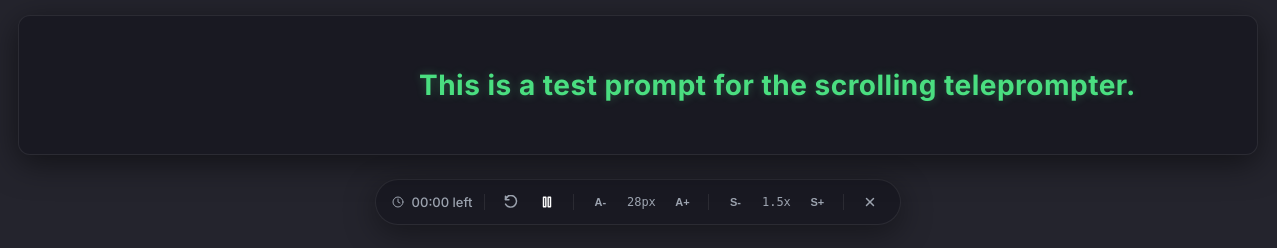
Test: Teleprompter.vue › increases and decreases font size on button click
expect the text "28px" is shown: met, box left=627, top=195, right=656, bottom=209
Click the button with class "btn-tool" showing "A+" at [682, 202], box left=668, top=188, right=696, bottom=216
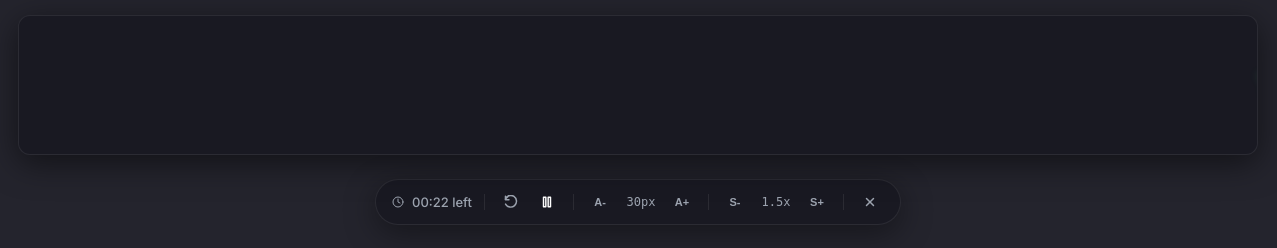
expect the text "30px" is shown: met, box left=626, top=195, right=655, bottom=209
Click the button with class "btn-tool" showing "A-" at [600, 202], box left=586, top=188, right=614, bottom=216
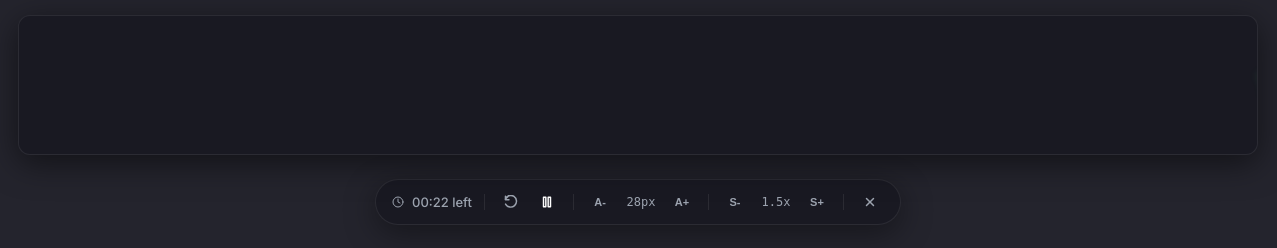
Click the button with class "btn-tool" showing "A-" at [600, 202], box left=586, top=188, right=614, bottom=216
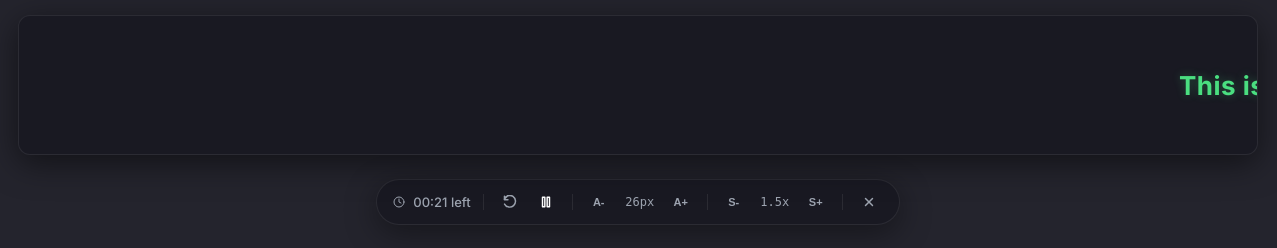
expect the text "26px" is shown: met, box left=625, top=195, right=654, bottom=209
